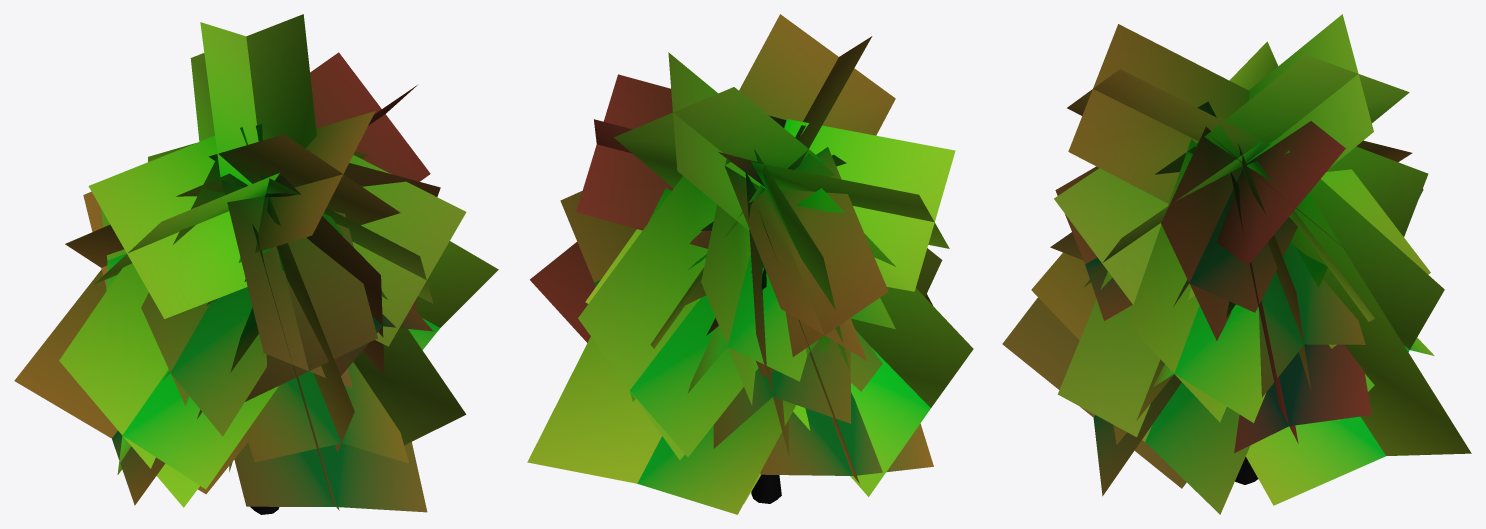
The model's file is Super_11_9.fbx.
The picture shows the model from 3 angles, left to right: view 1: azimuth 30°, elevation 25°; view 2: azimuth 150°, elevation 25°; view 3: azimuth 270°, elevation 25°; orthographic projection.
Parts seen in each view (by area): view 1: Super_11_9; view 2: Super_11_9; view 3: Super_11_9.
Boxes of the visible parts, x1,y1,x2,y2 form: Super_11_9: [14, 14, 498, 514]; Super_11_9: [527, 14, 973, 514]; Super_11_9: [1002, 14, 1471, 514].
Size of the model in its own units: 1491 by 1509 by 1406.
